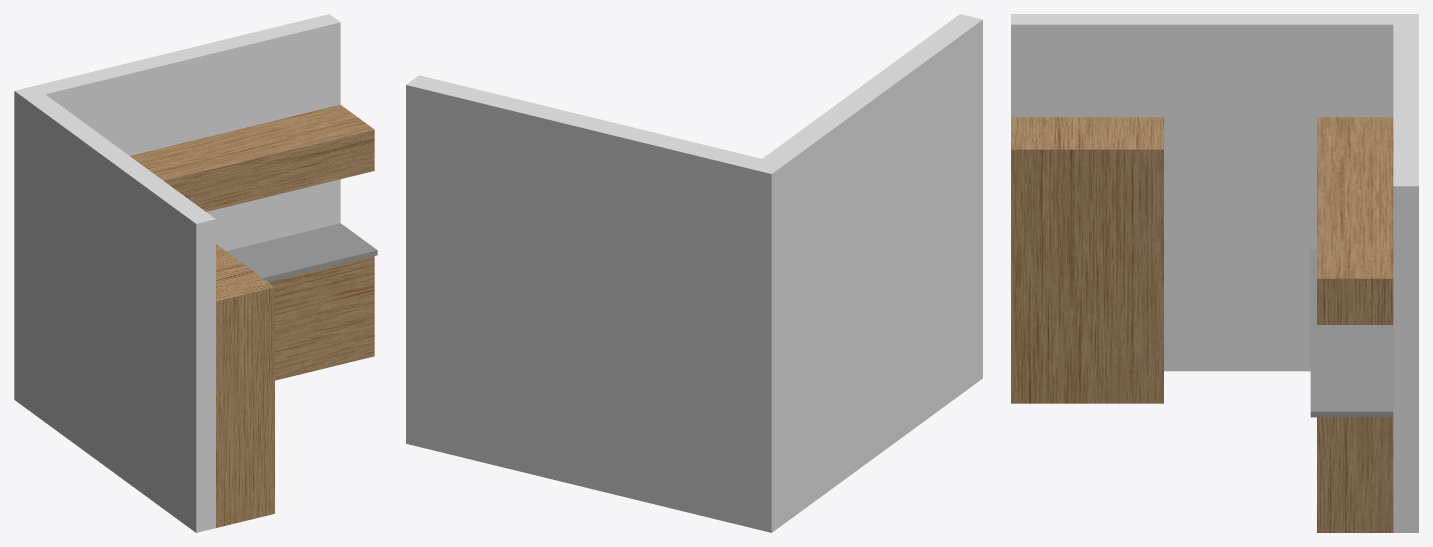
File: 3dcucina.obj
3 views of the same model, side by side, from view 1: azimuth 30°, elevation 25°; view 2: azimuth 150°, elevation 25°; view 3: azimuth 270°, elevation 25° (orthographic). The views are drawn at different scales.
Size of the model in its own units: 320 by 300 by 320.
4 materials, 2 textured.
